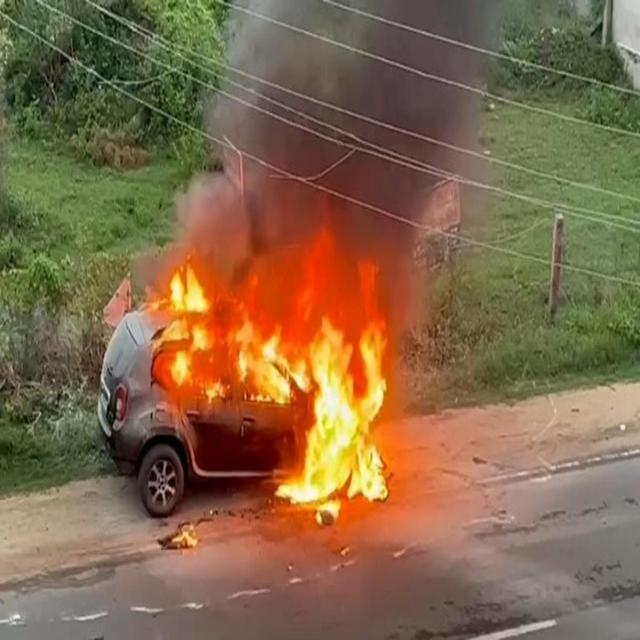fire: (305, 422, 359, 502), (359, 327, 386, 437), (311, 316, 353, 385), (247, 341, 289, 403), (359, 438, 388, 501), (314, 386, 358, 422)
